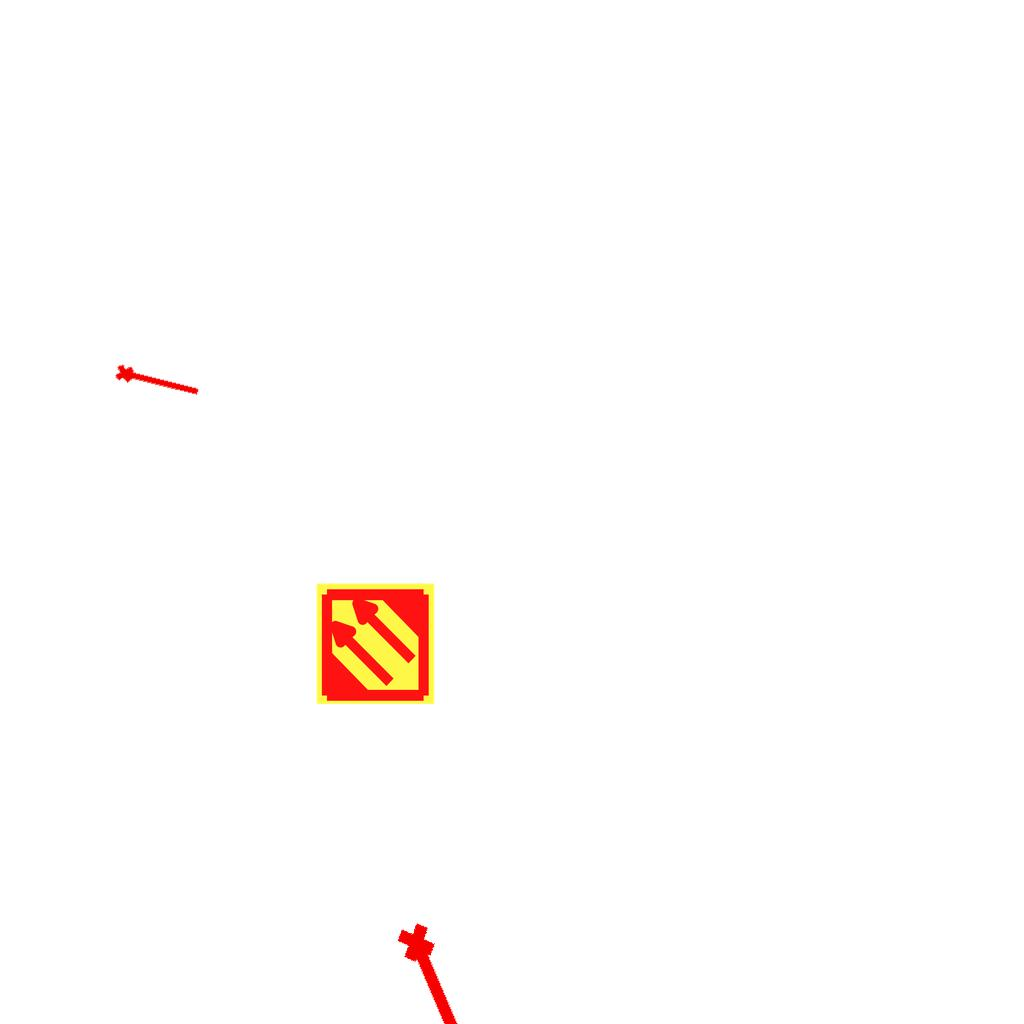ASR_Ansaugoeffnung: (389, 914, 501, 1024), (112, 358, 204, 403)
ASR_Ansaugrauchmelder: (313, 581, 438, 706)
